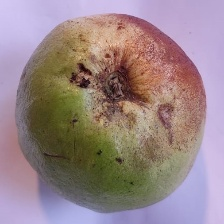guava: (30, 21, 216, 159)
